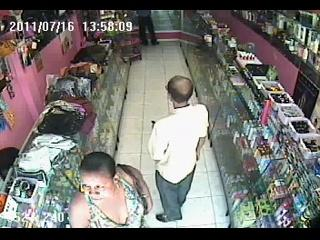Normal: (147, 76, 210, 224), (69, 152, 153, 228), (136, 10, 160, 46)
